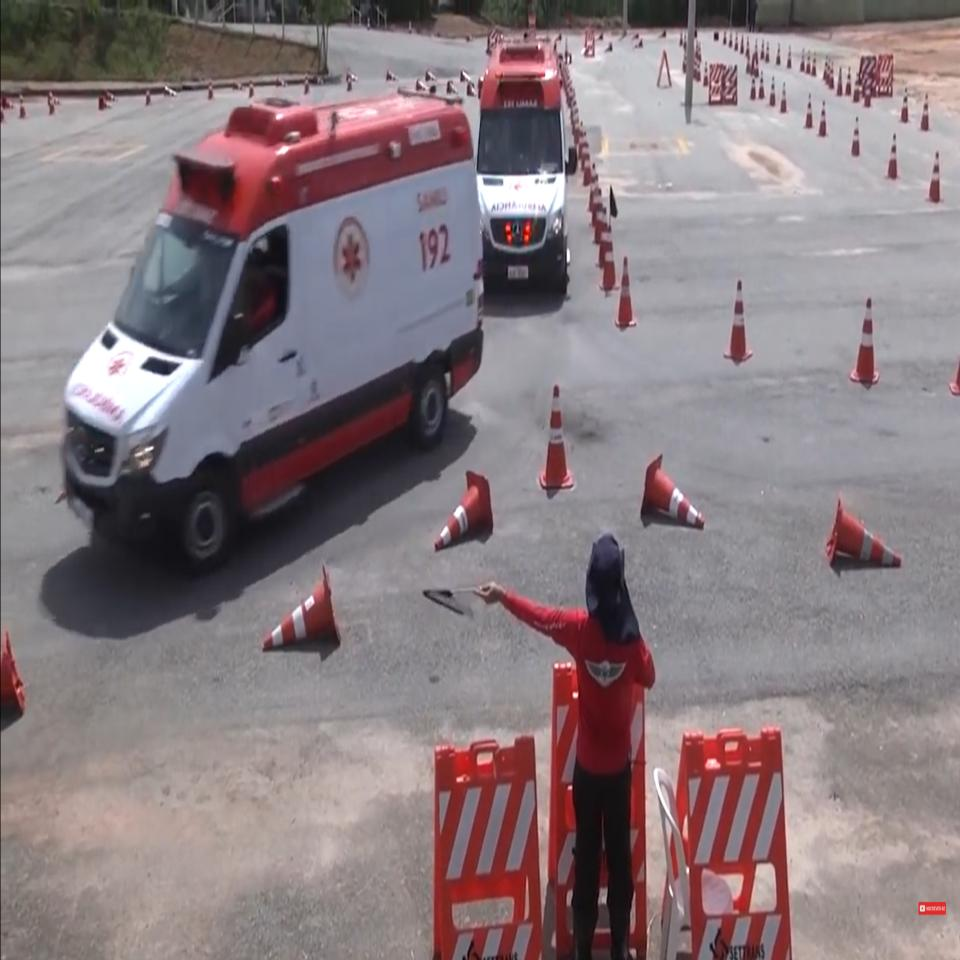bombeiro: (63, 86, 484, 581)
